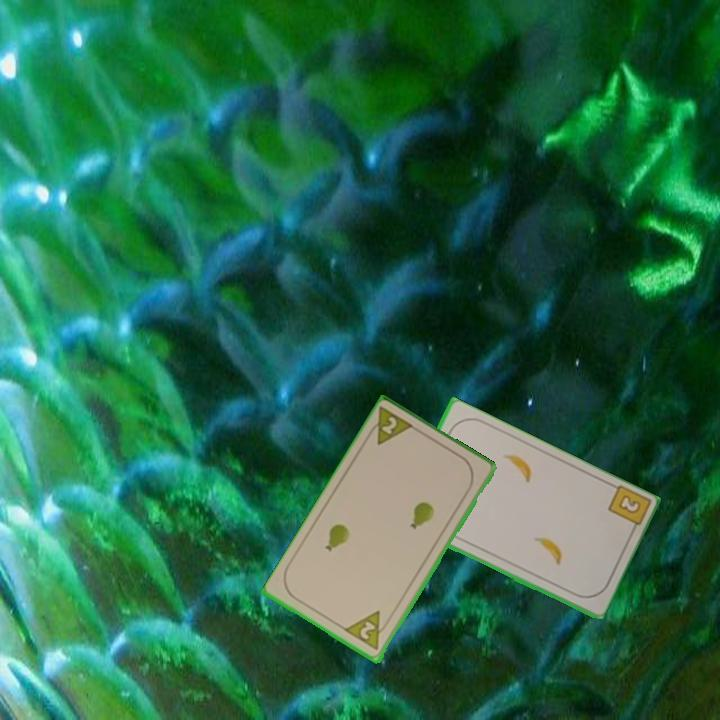2b: (604, 482, 651, 538)
2p: (363, 404, 418, 449), (342, 607, 394, 654)
